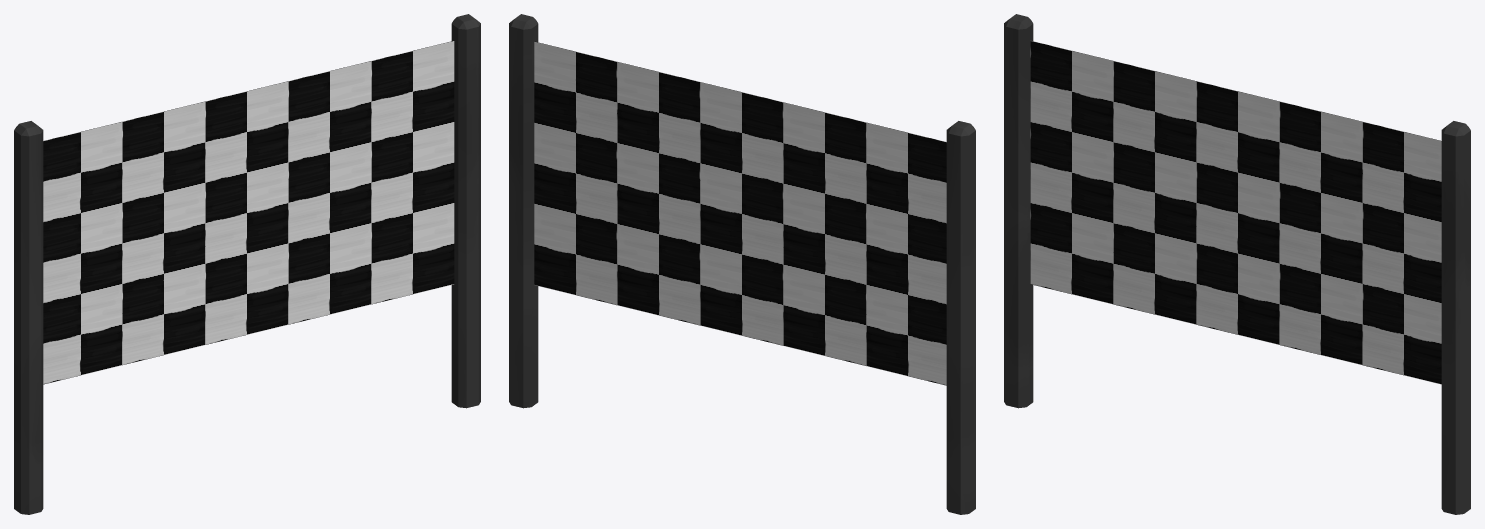
The model's file is Goal.glb.
The picture shows the model from 3 angles, left to right: view 1: azimuth 30°, elevation 25°; view 2: azimuth 150°, elevation 25°; view 3: azimuth 330°, elevation 25°; orthographic projection.
Visible parts, largest first — view 1: Goal; view 2: Goal; view 3: Goal.
Boxes of the visible parts, <box> form: Goal: <box>14,14,480,514</box>; Goal: <box>509,14,975,514</box>; Goal: <box>1004,14,1470,514</box>.
Bounding box in the file's own units: 1.78 × 1.42 × 0.087.
2 materials, 2 textured.
